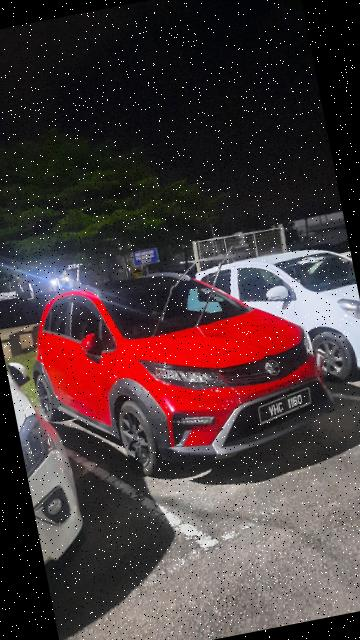License_Plate: (255, 384, 318, 425)
car: (20, 245, 344, 498), (181, 238, 360, 410), (4, 344, 96, 574)
